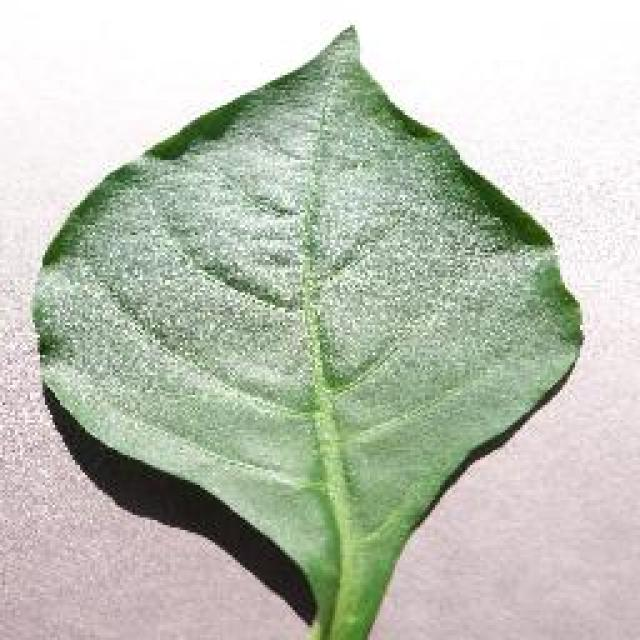Leaf: (24, 14, 621, 630)
